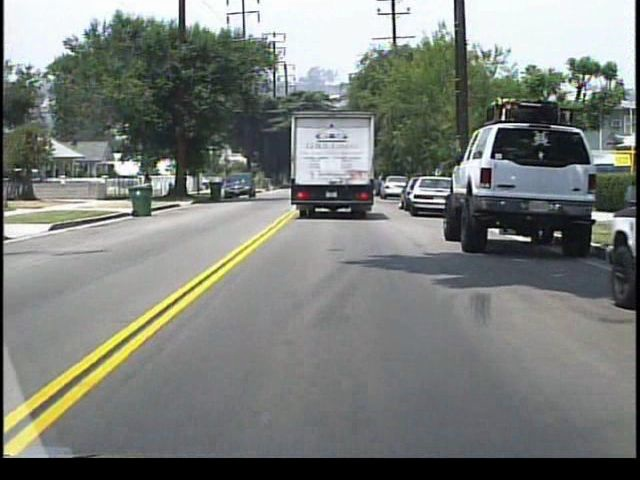person: (142, 170, 154, 199)
